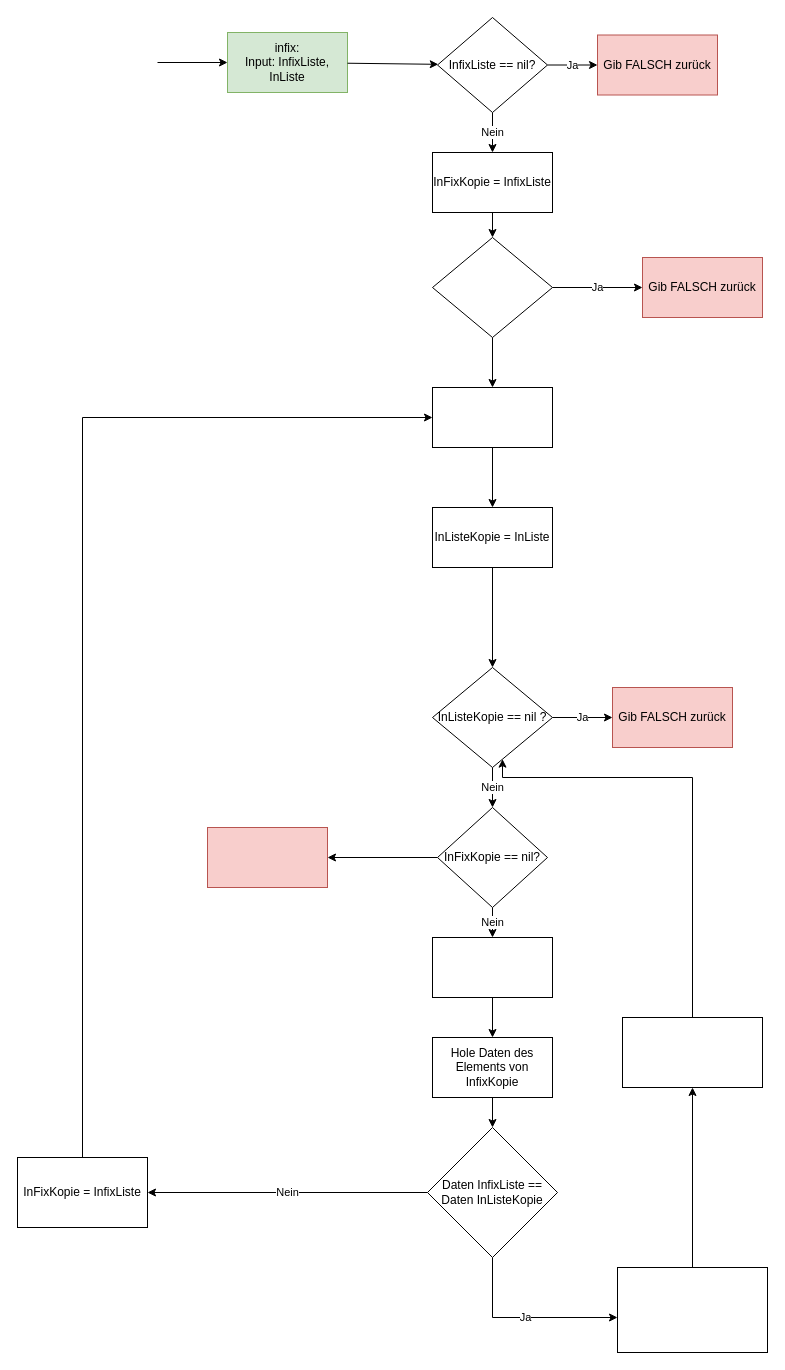
The diagram is 785 pixels wide and 1370 high, and some of its shapes have lost their labels. Each missing label, with the centre of its shape:
Gib WAHR zurück: the point at 267,857
Hole Daten des Elements von InListeKopie: the point at 492,967
InfIxKopie = Element auf nächstes ListensElement von InfixKopie: the point at 692,1309
InListe = Referenz auf nächstes Listenelememt von InListe: the point at 492,417
InListe == nil ?: the point at 492,287
InListeKopie = Referefenz auf nächstes ListenElement von InListeKopie: the point at 692,1052
